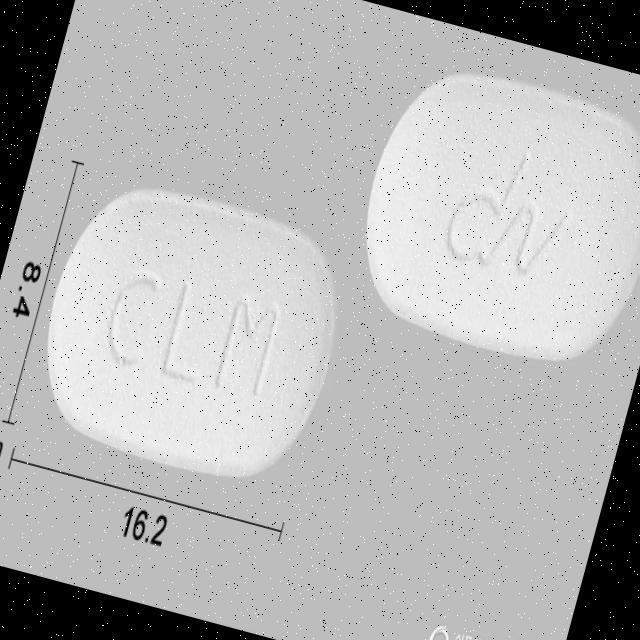Boryung Nitrofurantoin: (19, 166, 363, 500), (338, 51, 640, 387)
